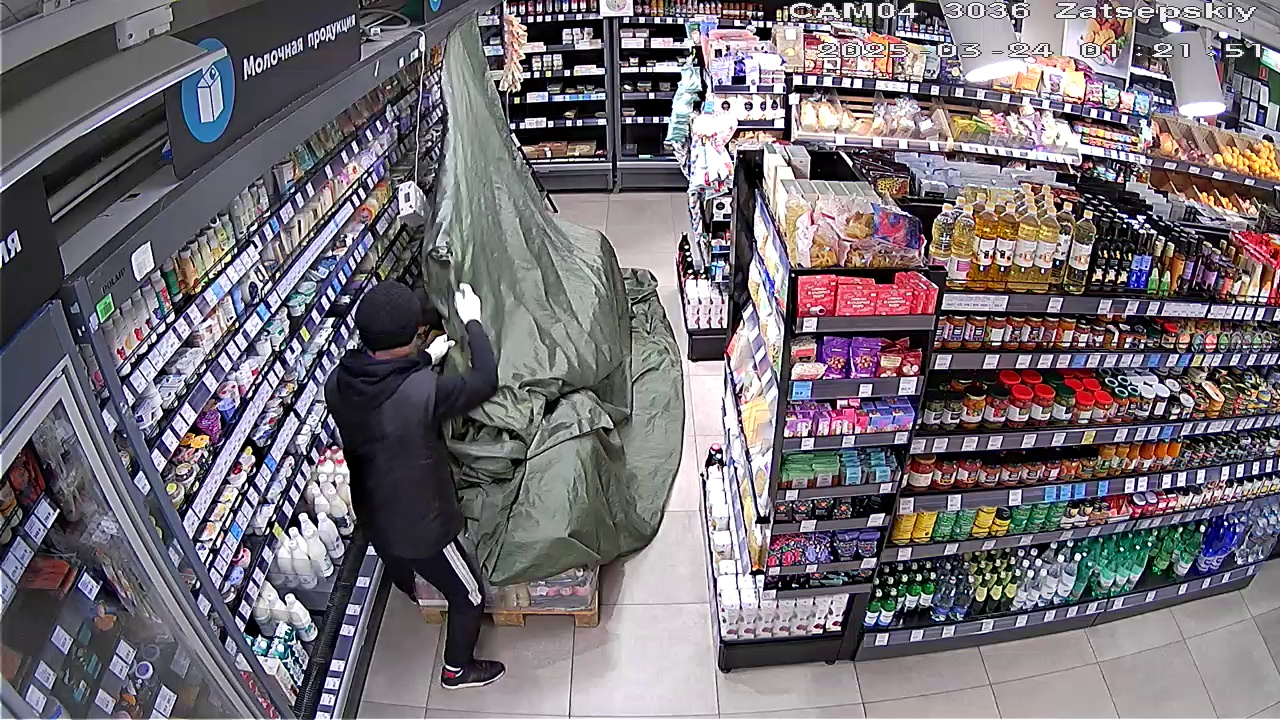Human: (324, 275, 506, 693)
dome: (422, 21, 680, 573)
